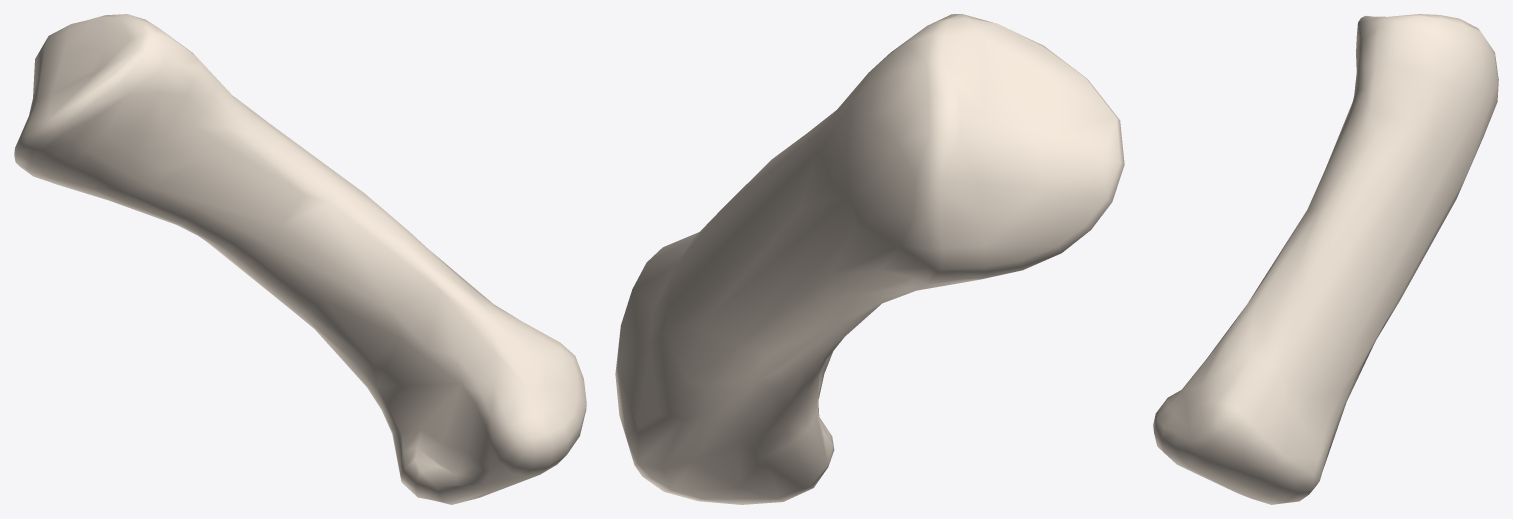
The model's file is left_metacarpal_1.glb.
The picture shows the model from 3 angles, left to right: view 1: azimuth 30°, elevation 25°; view 2: azimuth 150°, elevation 25°; view 3: azimuth 270°, elevation 25°; orthographic projection. The views are drawn at different scales.
Visible parts, largest first — view 1: 1st metacarpal bone.r; view 2: 1st metacarpal bone.r; view 3: 1st metacarpal bone.r.
Boxes of the visible parts, bbox=[...] form: 1st metacarpal bone.r: bbox=[14, 14, 586, 504]; 1st metacarpal bone.r: bbox=[615, 14, 1124, 504]; 1st metacarpal bone.r: bbox=[1153, 14, 1498, 504].
Bounding box in the file's own units: 0.0381 × 0.0378 × 0.0307.
